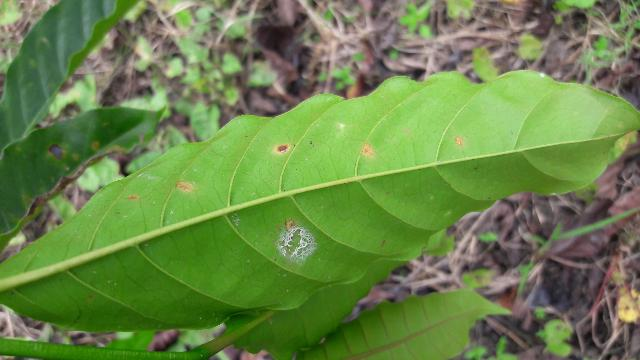rust_level_1: (0, 70, 636, 333)
